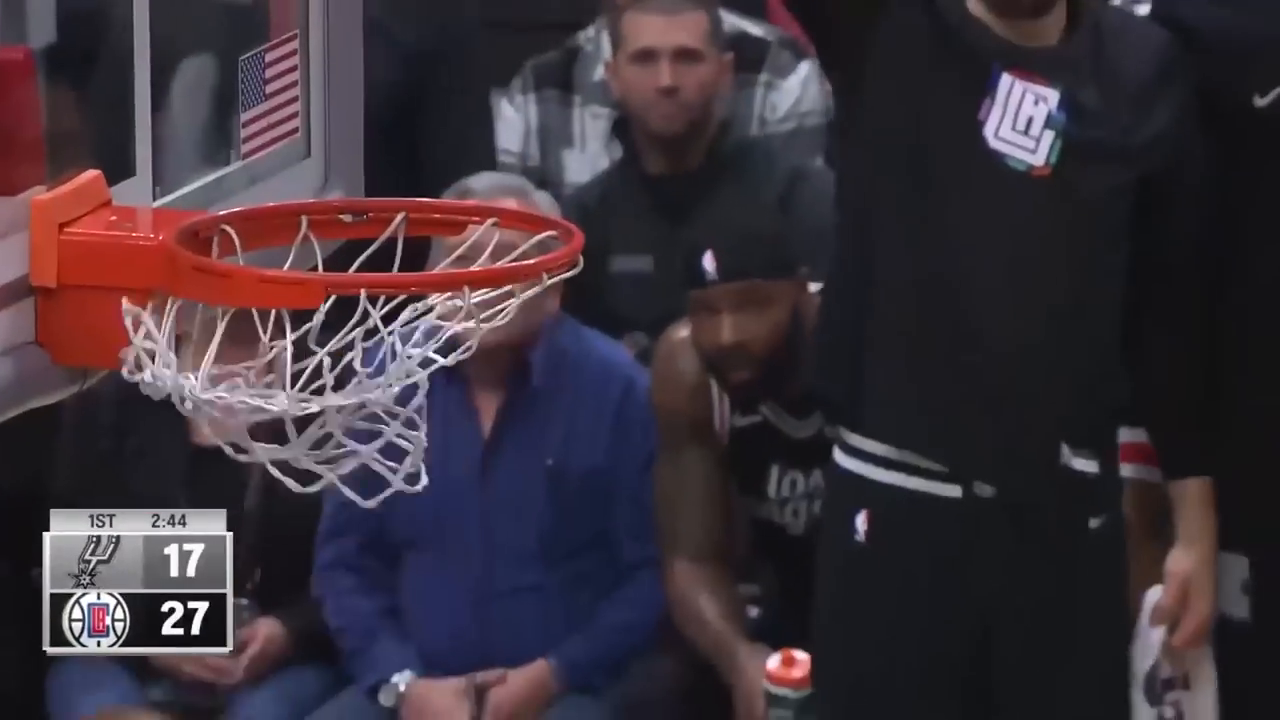net: (119, 183, 600, 516)
